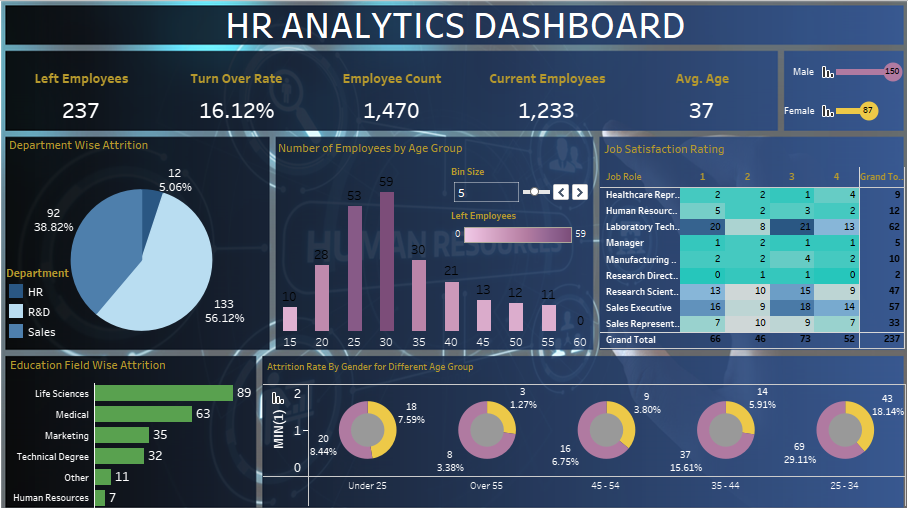

What the dashboard file says about the page in this screenshot:
{"tool":"tableau","page":{"name":"Dashboard 1","canvas":[1135,540],"ordinal":0},"visuals":[{"type":"text","box":[297,37,497,38]},{"type":"worksheet","title":"KPI","mark":"Automatic","box":[94,79,776,87]},{"type":"worksheet","title":"Gender","mark":"Automatic","rows":["Gender"],"cols":["Calculation_815714545084542976","Calculation_815714545084542976"],"box":[874,84,122,78]},{"type":"worksheet","title":"Department","mark":"Pie","box":[95,165,273,224]},{"type":"worksheet","title":"Age","mark":"Automatic","rows":["Calculation_815714545084542976"],"cols":["Age (bin)"],"box":[364,168,323,215]},{"type":"worksheet","title":"Satisfaction","mark":"Square","rows":["Job Role"],"cols":["Job Satisfaction"],"box":[690,169,305,212]},{"type":"parameter","param":"[Parameters].[Parameter 1]","box":[541,197,140,41]},{"type":"legend","title":"Age","param":"[federated.1krij9h0e0ab0c12klgqz1f4aze2].[sum:Calculation_815714545084542976:qk]","box":[541,241,140,43]},{"type":"legend","title":"Department","param":"[federated.1krij9h0e0ab0c12klgqz1f4aze2].[none:Department:nk]","box":[96,297,66,83]},{"type":"worksheet","title":"Education ","mark":"Automatic","rows":["Education Field"],"cols":["Calculation_815714545084542976"],"box":[96,385,258,156]},{"type":"worksheet","title":"Age Grouping","mark":"Pie","rows":["Calculation_815714545114562568","Calculation_815714545114562568"],"cols":["CF_age band"],"box":[353,388,643,151]}]}

Visuals, with their boxes on the page's 1135x540 design canvas (x1, y1, x2, y2). These are canvas units, not pixel positions in the 908x508 screenshot, which may show the page scaled, cropped or inside an application window:
text: x1=297, y1=37, x2=794, y2=75
"KPI" worksheet: x1=94, y1=79, x2=870, y2=166
"Gender" worksheet: x1=874, y1=84, x2=996, y2=162
"Department" worksheet (Pie marks): x1=95, y1=165, x2=368, y2=389
"Age" worksheet: x1=364, y1=168, x2=687, y2=383
"Satisfaction" worksheet (Square marks): x1=690, y1=169, x2=995, y2=381
parameter: x1=541, y1=197, x2=681, y2=238
"Age" legend: x1=541, y1=241, x2=681, y2=284
"Department" legend: x1=96, y1=297, x2=162, y2=380
"Education " worksheet: x1=96, y1=385, x2=354, y2=541
"Age Grouping" worksheet (Pie marks): x1=353, y1=388, x2=996, y2=539
